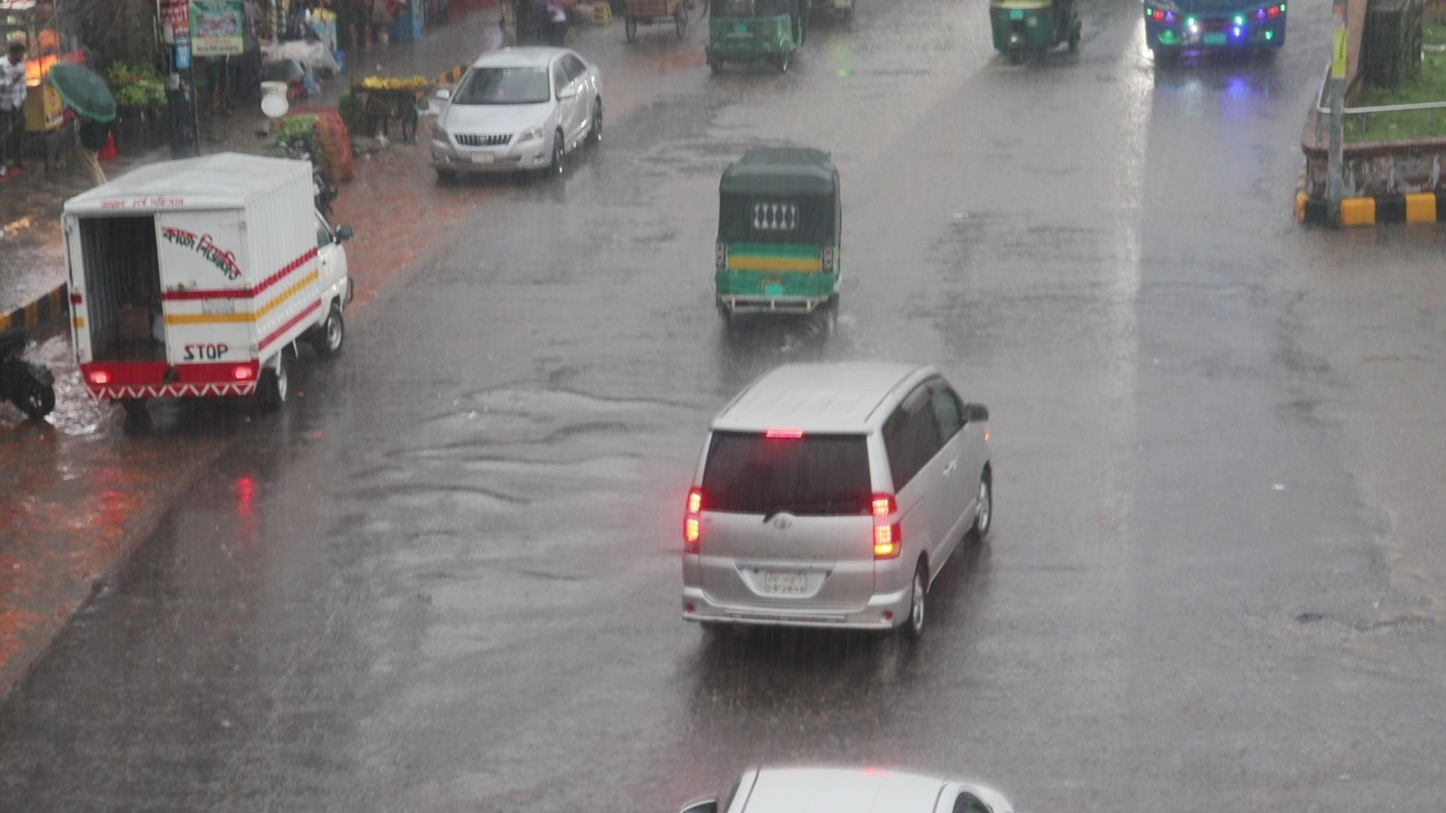Car: (680, 360, 996, 640)
